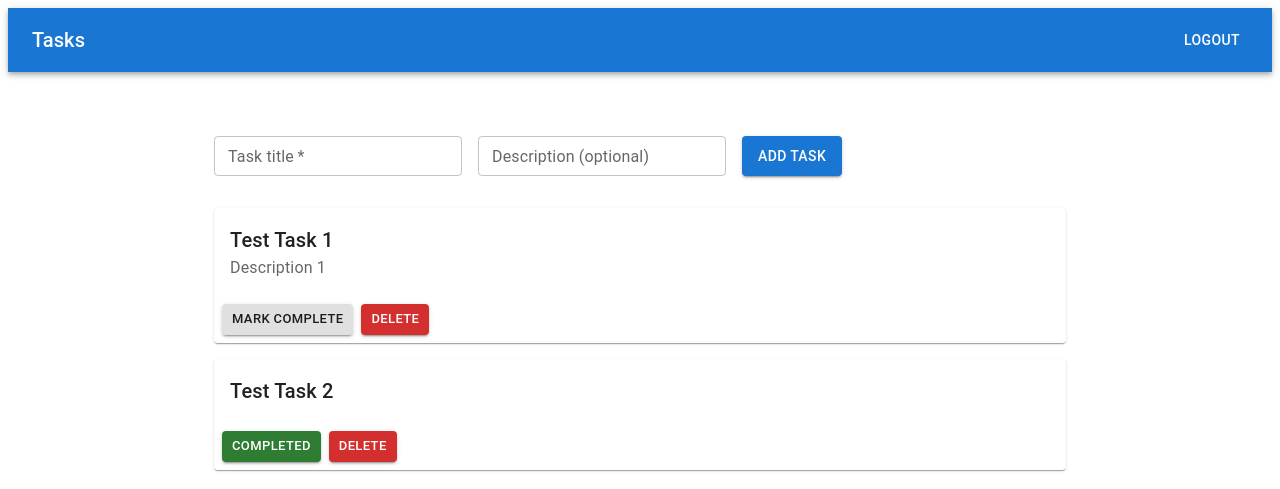
Scenario: Tasks Component › updates task completion status
This screenshot has width=1280, height=489.
Click the button "Mark Complete". click: click(288, 319)
box: [222,304,354,335]
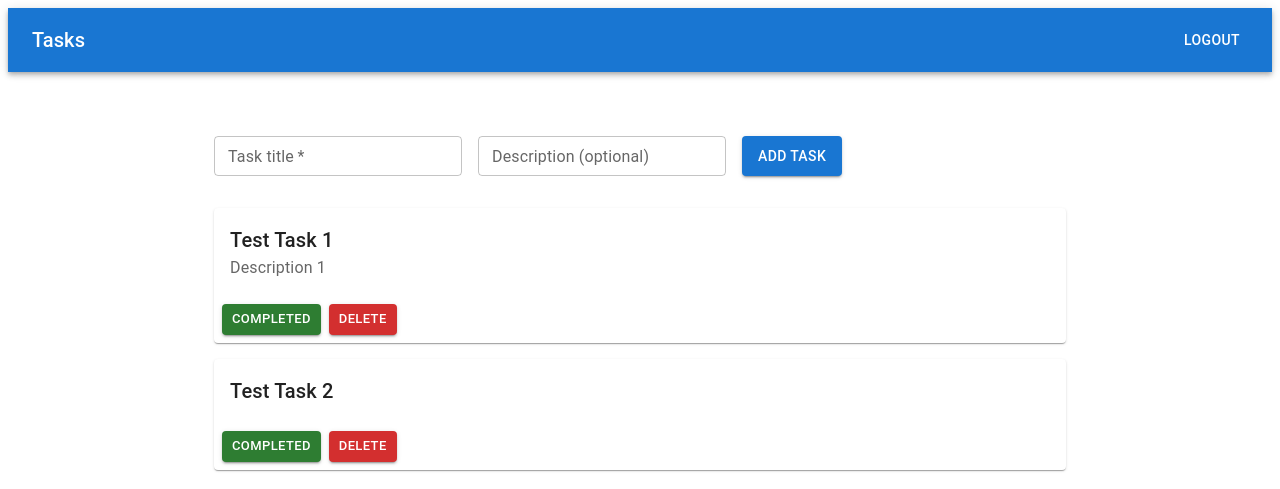
Check: the button "Completed" below "Description 1" is shown, box [222,304,321,335]
